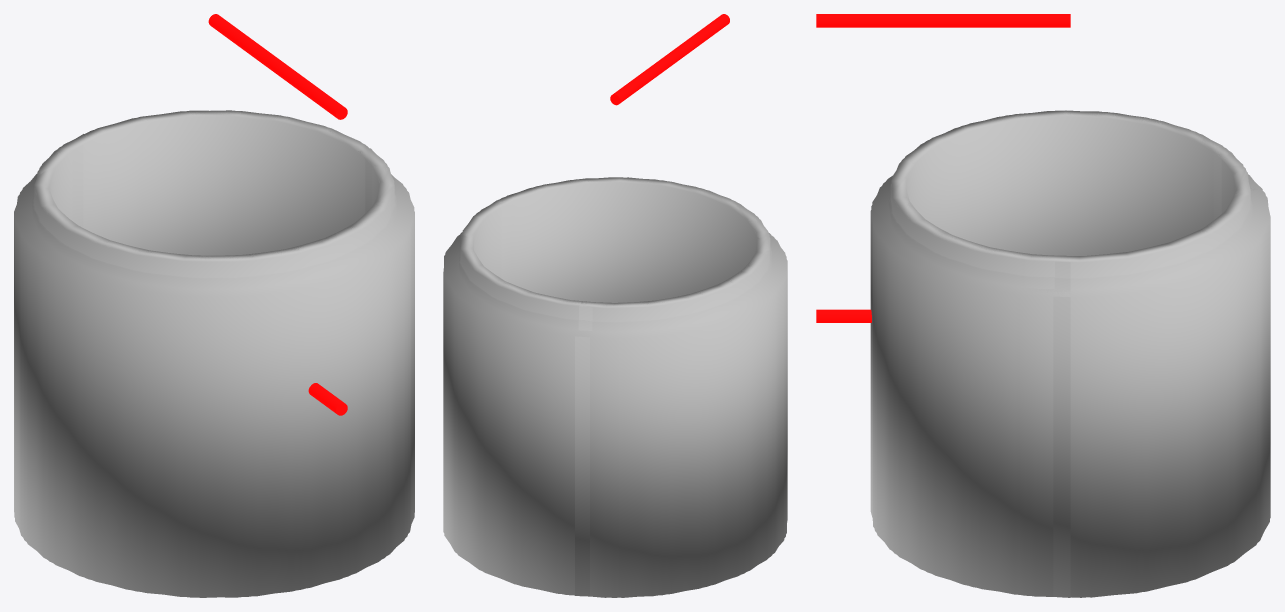
Rendered from LOT134c_bc1fce46.glb.
3 renders of one model, left to right at view 1: azimuth 30°, elevation 25°; view 2: azimuth 150°, elevation 25°; view 3: azimuth 270°, elevation 25°, orthographic. The views are drawn at different scales.
Visible parts, largest first — view 1: item, vector_h0.800_a270.0; view 2: item, vector_h0.800_a270.0; view 3: item, vector_h0.800_a270.0.
Boxes of the visible parts, x1,y1,x2,y2 form: item: (14, 110, 414, 597); vector_h0.800_a270.0: (208, 14, 347, 415); item: (443, 177, 787, 597); vector_h0.800_a270.0: (610, 14, 729, 105); item: (870, 110, 1270, 597); vector_h0.800_a270.0: (816, 14, 1070, 322).
Bounding box in the file's own units: 1.47 × 2.02 × 1.67.
